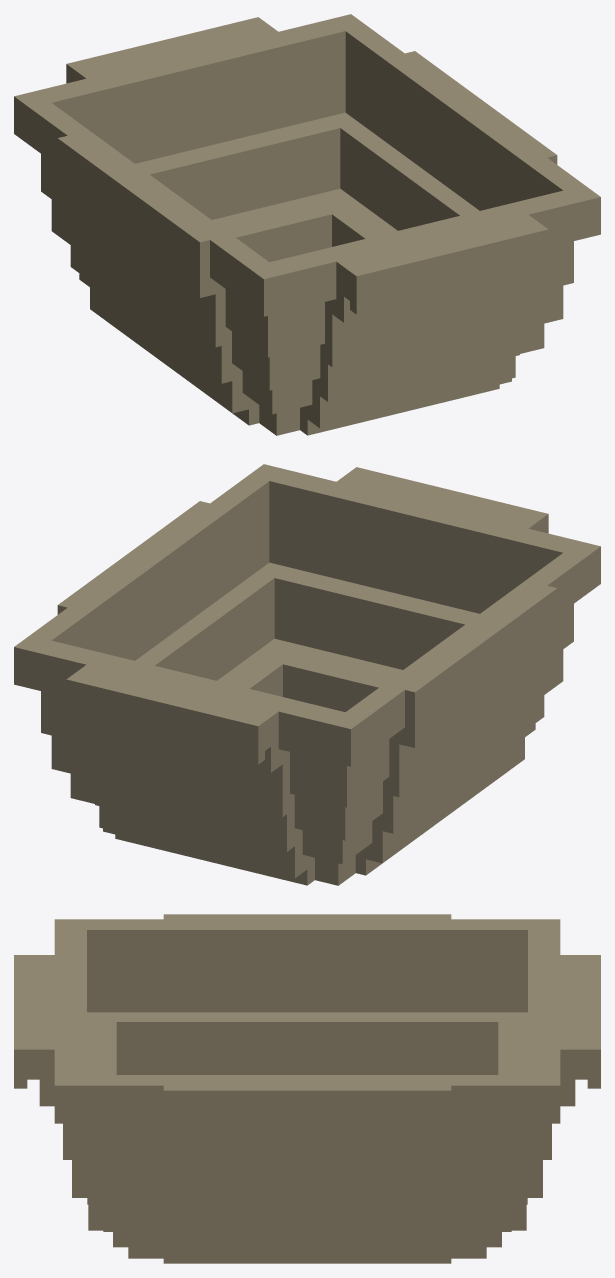
File: Large Basket.fbx
3 renders of one model, top to bottom at view 1: azimuth 30°, elevation 25°; view 2: azimuth 150°, elevation 25°; view 3: azimuth 270°, elevation 25°, orthographic.
Visible parts, largest first — view 1: Basket; view 2: Basket; view 3: Basket.
Boxes of the visible parts, x1,y1,x2,y2 form: Basket: (14, 14, 600, 435); Basket: (14, 464, 600, 885); Basket: (14, 914, 600, 1263).
Bounding box in the file's own units: 24.85 × 12.97 × 34.94.
1 material, 1 textured.
